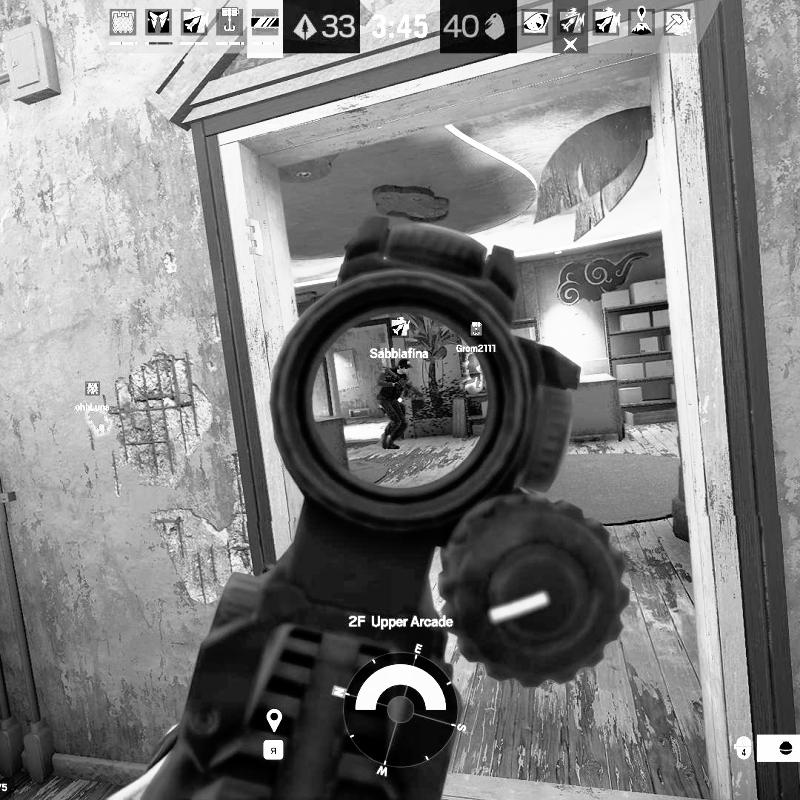Character: (376, 357, 425, 451)
Friend_label: (369, 316, 430, 360), (455, 320, 498, 354), (75, 381, 111, 411)
Head: (396, 358, 412, 376)
